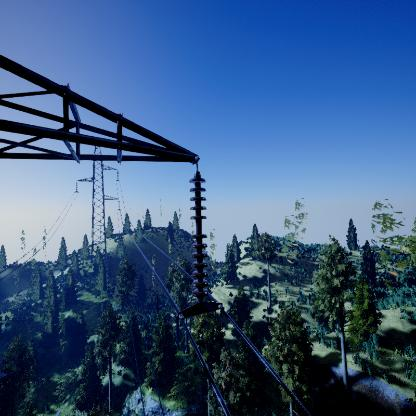insulator: (186, 172, 214, 299)
